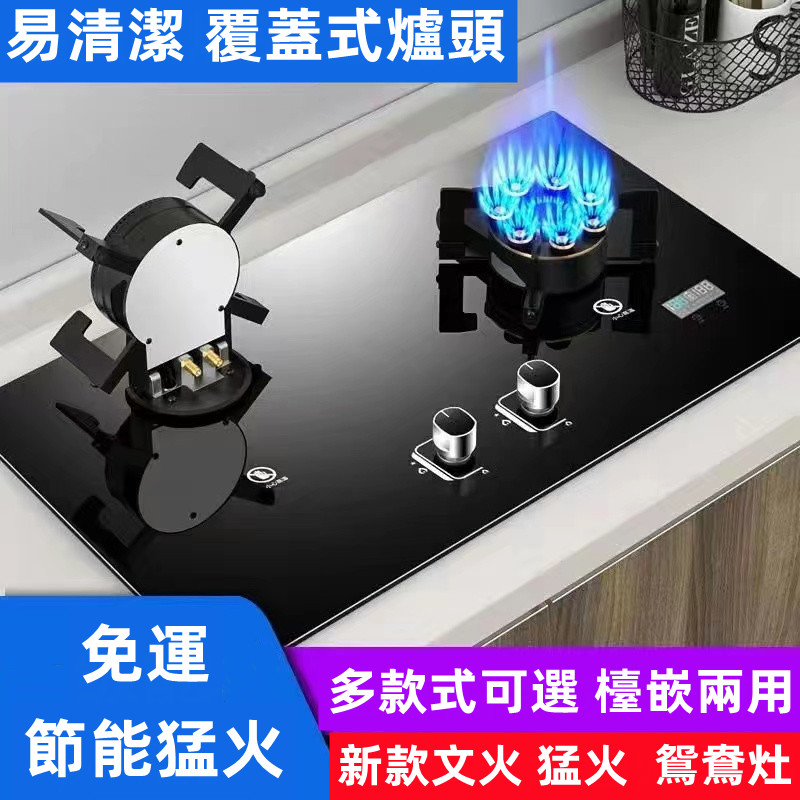gasoven: (7, 97, 800, 649)
